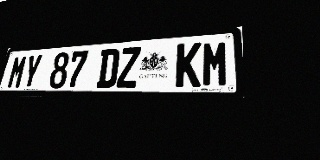7: (65, 50, 89, 88)
8: (48, 52, 71, 88)
D: (96, 48, 120, 88)
K: (175, 42, 202, 87)
M: (201, 40, 229, 87), (6, 55, 28, 89)
Y: (21, 54, 43, 89)
Z: (116, 47, 141, 88)
